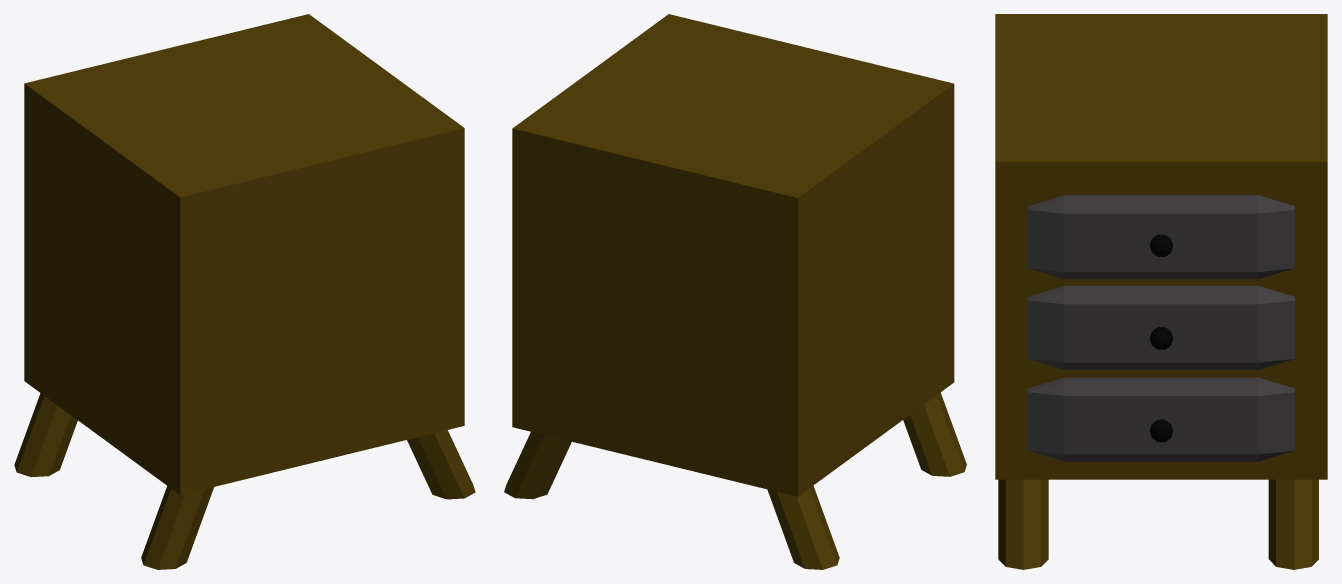
Rendered from SideDresser.fbx.
3 renders of one model, left to right at view 1: azimuth 30°, elevation 25°; view 2: azimuth 150°, elevation 25°; view 3: azimuth 270°, elevation 25°, orthographic. The views are drawn at different scales.
Parts seen in each view (by area): view 1: Cube; view 2: Cube; view 3: Cube.
Part boxes in pixels (box(x1,y1,x2,y2)): Cube: box(14, 14, 475, 569); Cube: box(504, 14, 966, 569); Cube: box(995, 14, 1327, 569).
Size of the model in its own units: 236 by 250 by 190.
